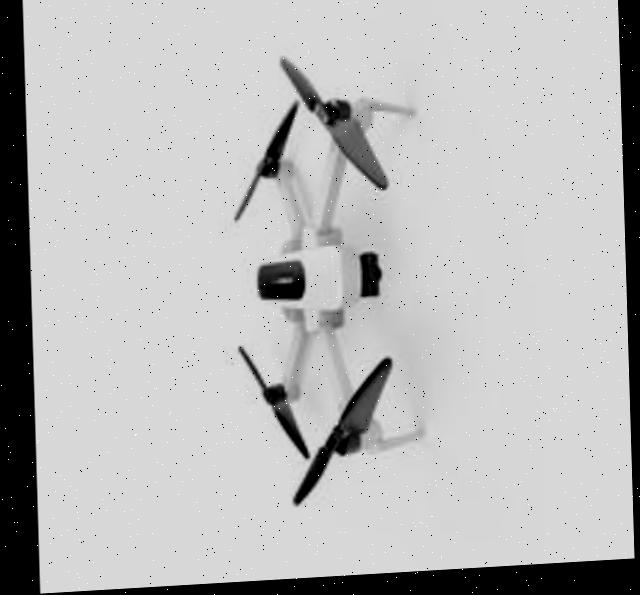drone: (198, 44, 451, 529)
